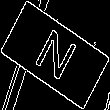N_SW: (29, 23, 81, 87)
